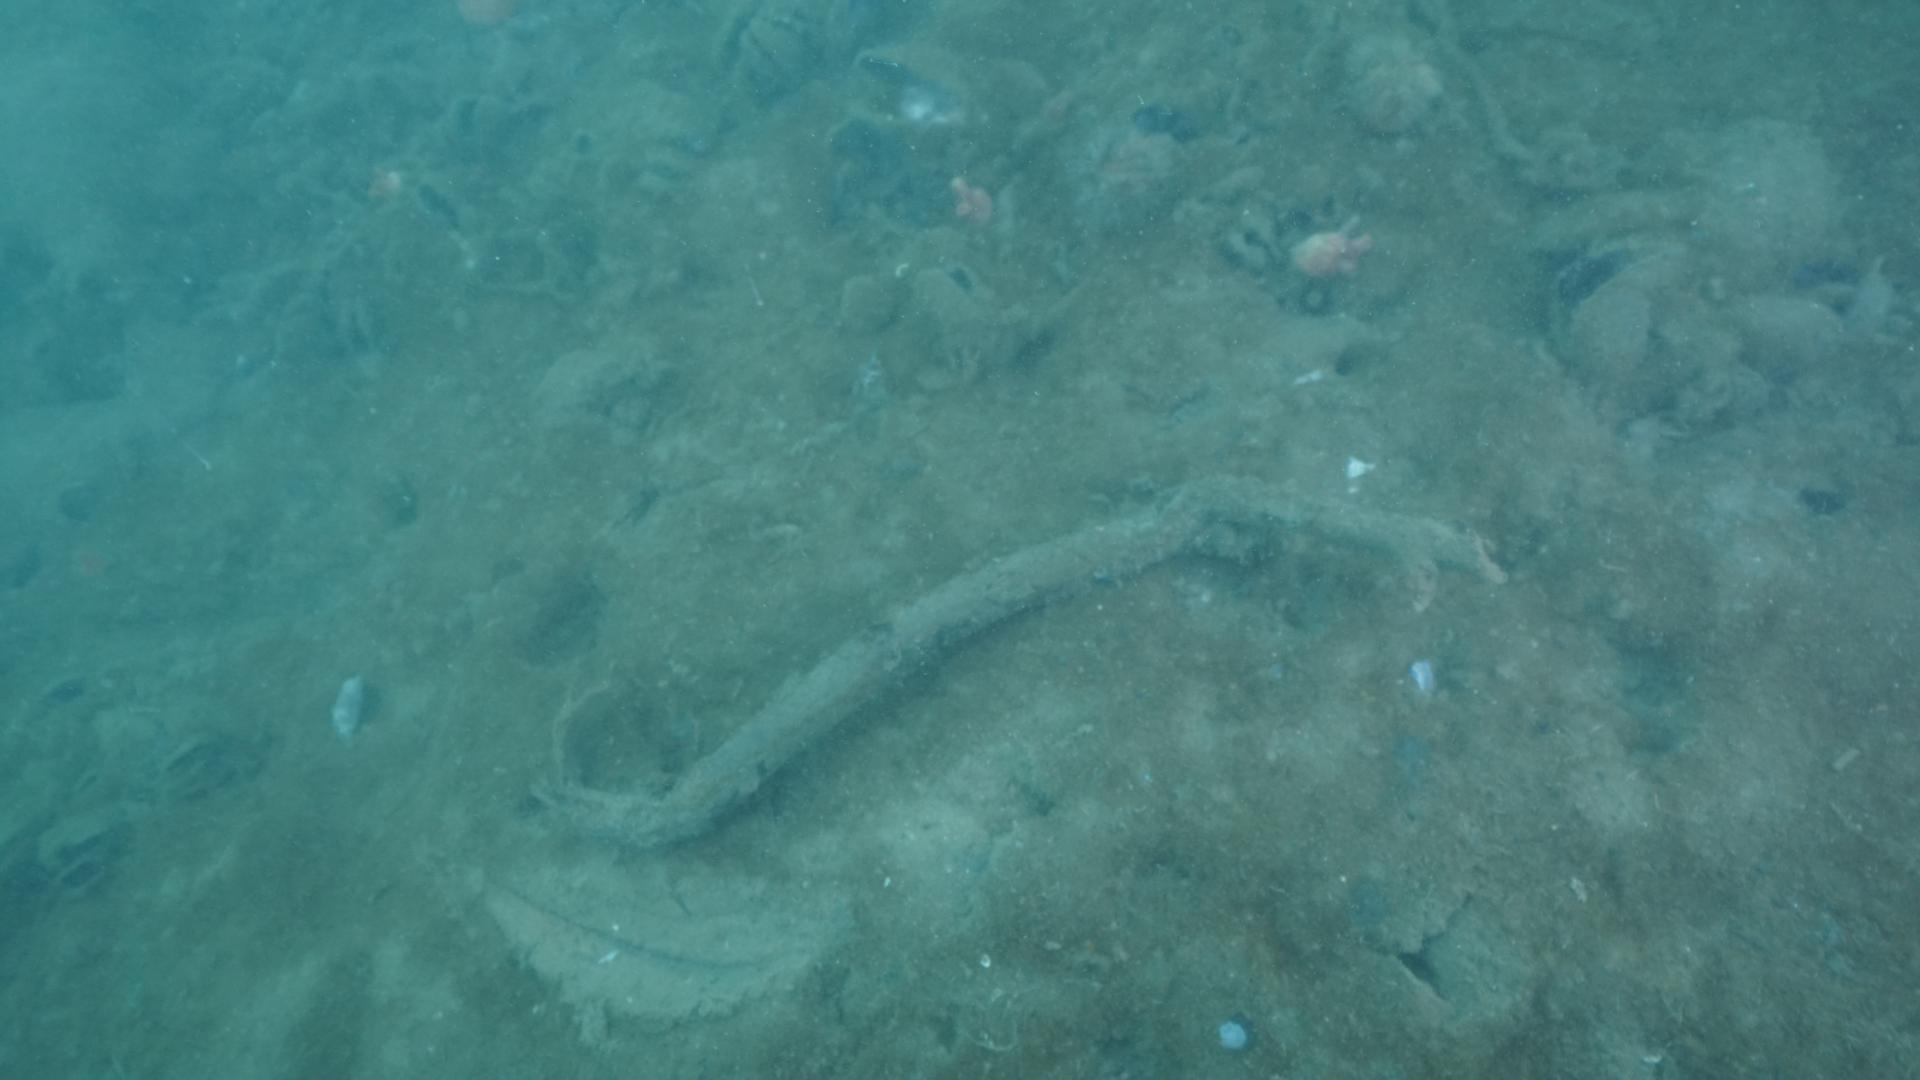wood: (543, 469, 1505, 853)
